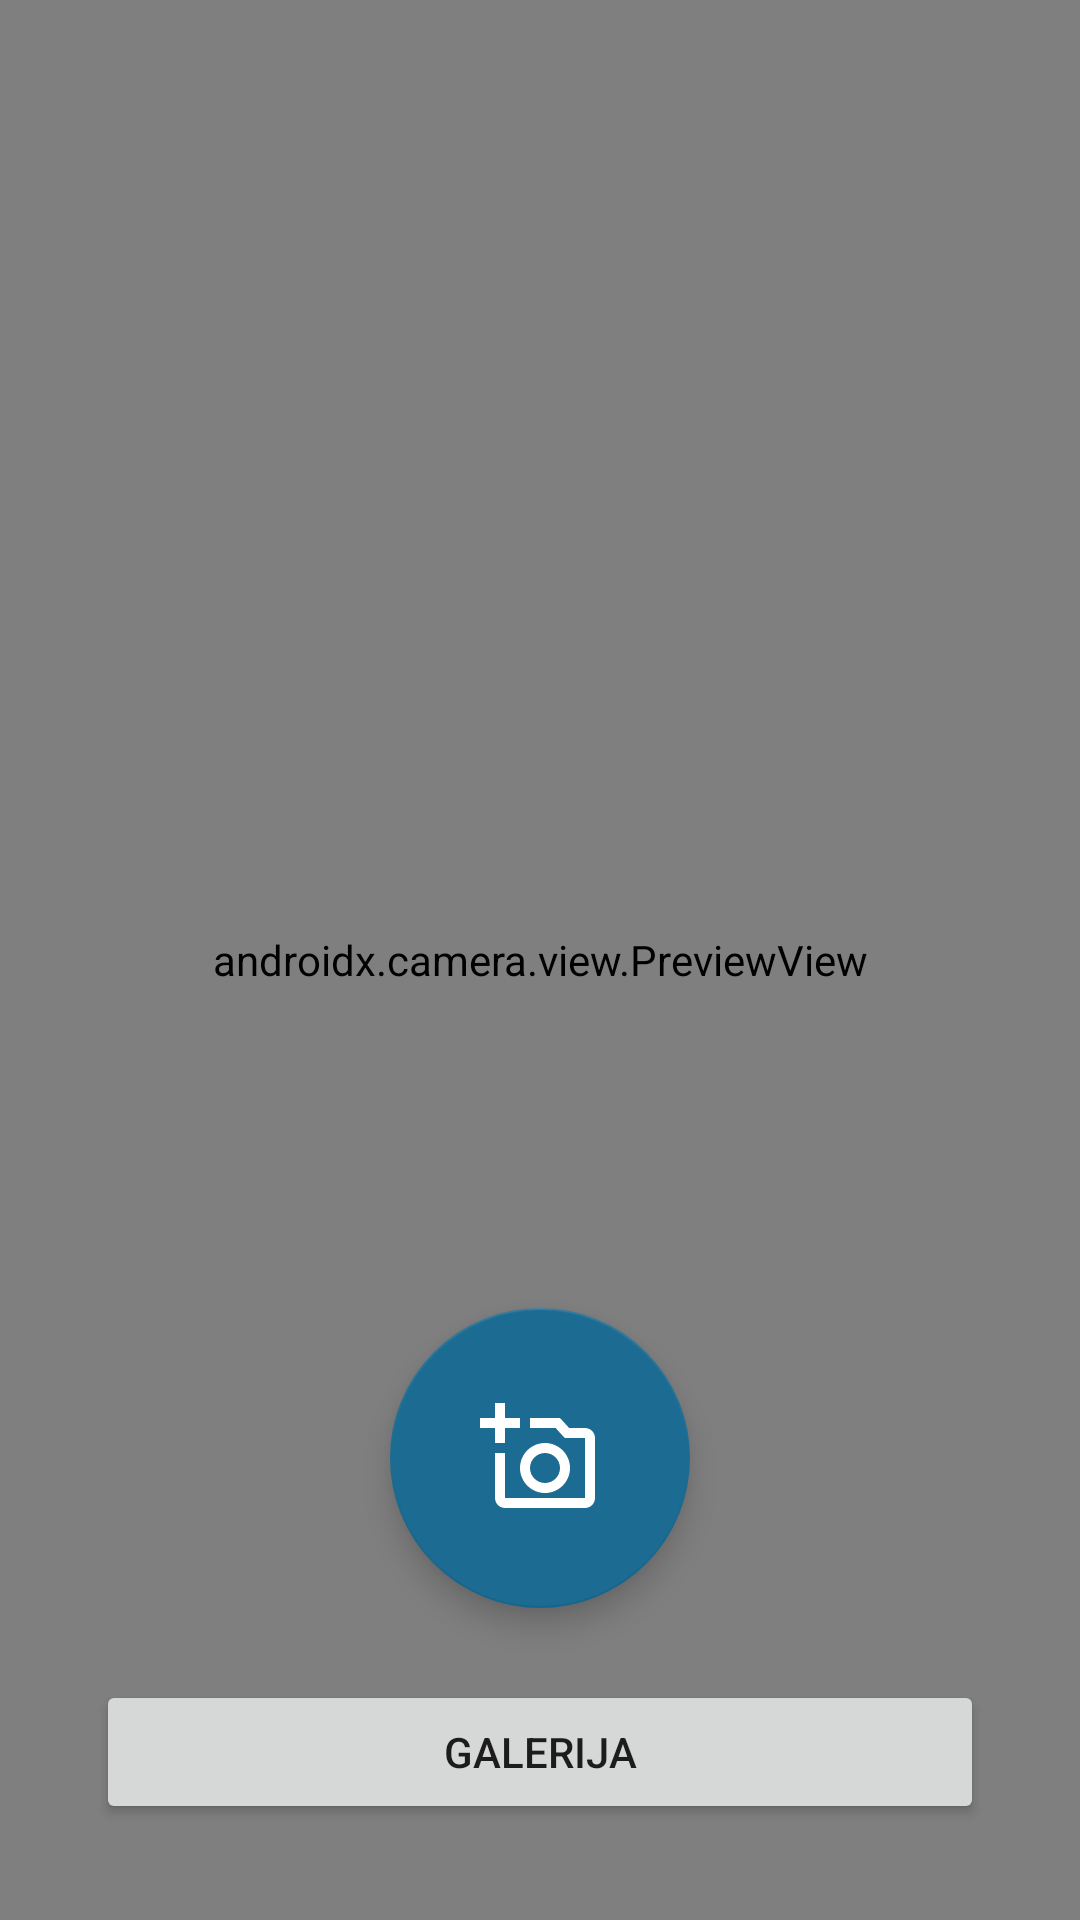

Named icons in this screenshot (1080px×1920px) and their bounding boxes, (x1, y1, x2, y2):
add photo: (390, 1308, 690, 1608)
